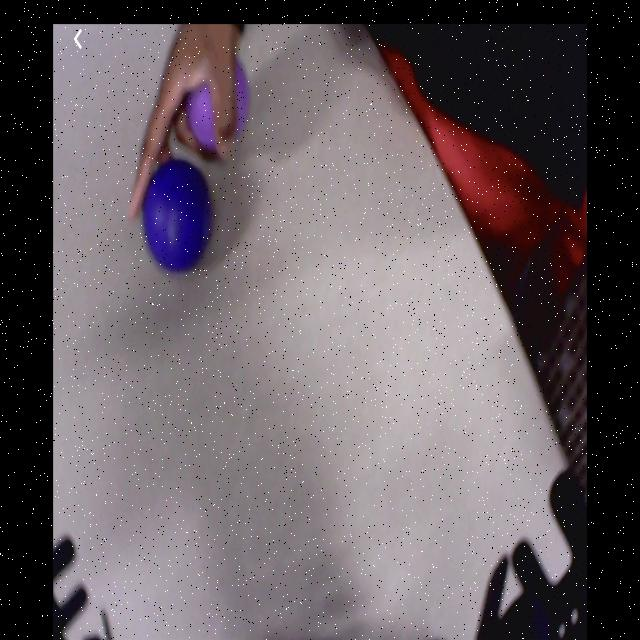ball: (142, 161, 213, 270), (184, 53, 250, 155)
